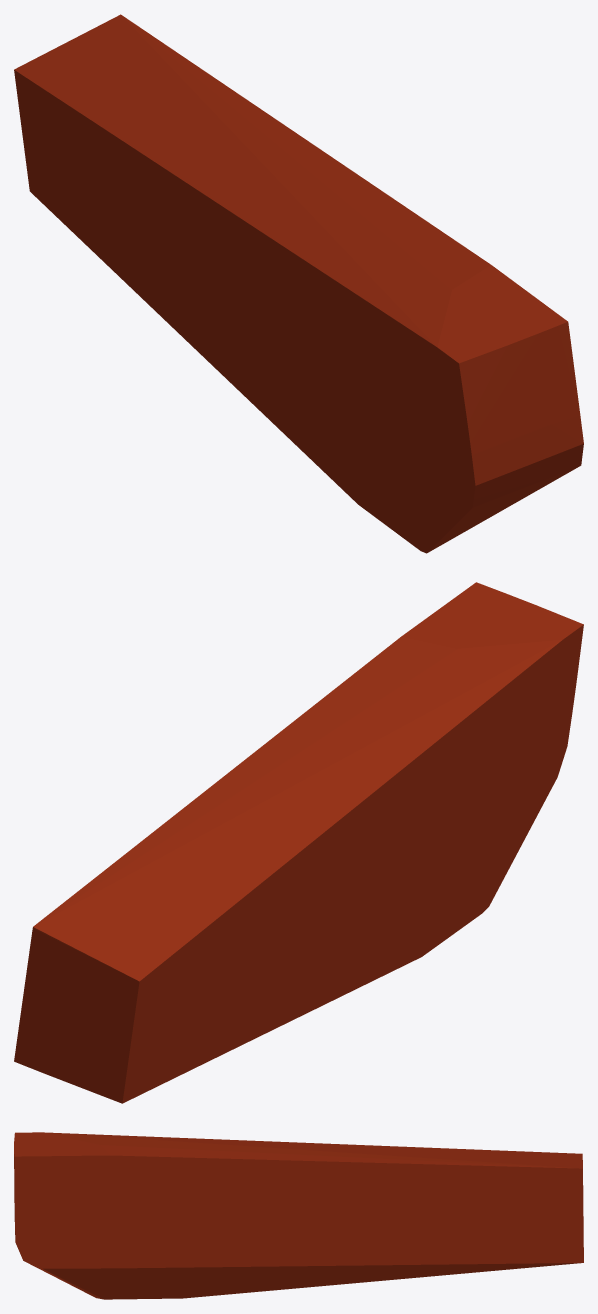
Rendered from converted_Downdraft_Assy_collision_24_962b0fff.obj.
3 renders of one model, top to bottom at view 1: azimuth 30°, elevation 25°; view 2: azimuth 150°, elevation 25°; view 3: azimuth 270°, elevation 25°, orthographic. The views are drawn at different scales.
Size of the model in its own units: 0.0637 by 0.1229 by 0.3783.
